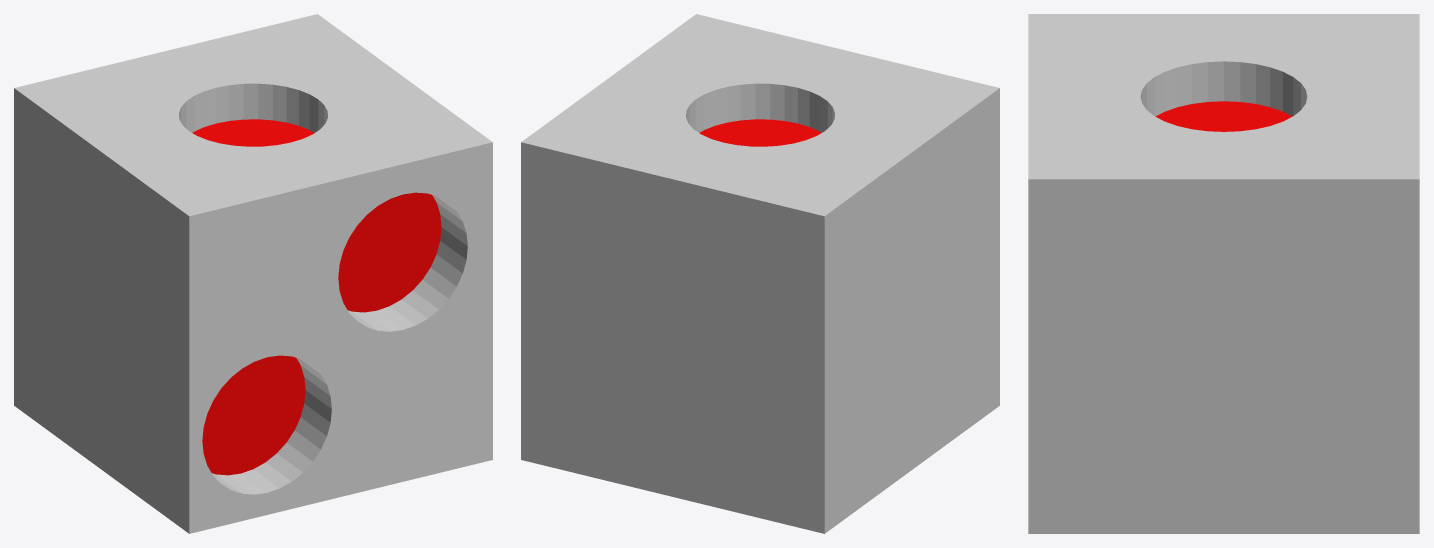
The picture shows the model from 3 angles, left to right: view 1: azimuth 30°, elevation 25°; view 2: azimuth 150°, elevation 25°; view 3: azimuth 270°, elevation 25°; orthographic projection. The views are drawn at different scales.
Visible parts, largest first — view 1: Cube; view 2: Cube; view 3: Cube.
Boxes of the visible parts, x1,y1,x2,y2 form: Cube: (14, 14, 492, 533); Cube: (521, 14, 999, 533); Cube: (1028, 14, 1419, 533).
Size of the model in its own units: 2 by 2 by 2.
